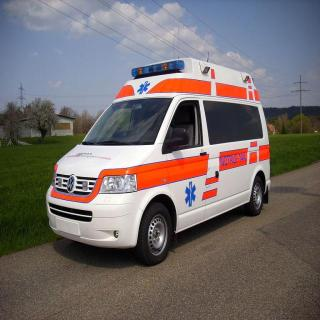Ambulance: (34, 51, 284, 268)
